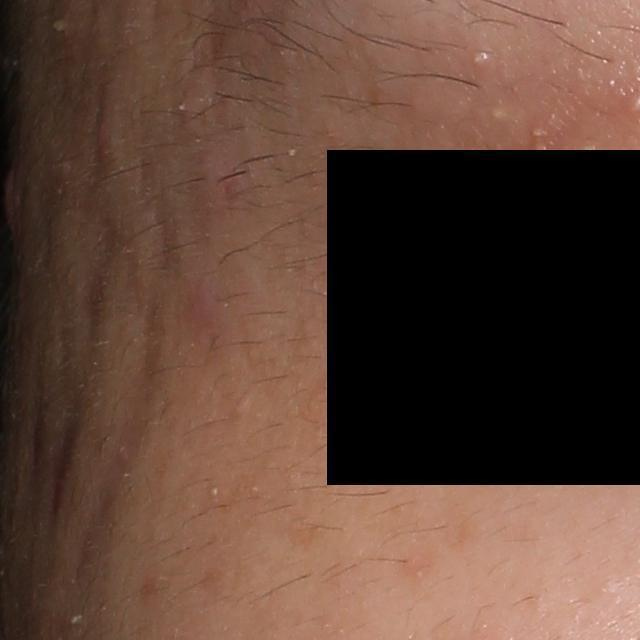other: (467, 45, 494, 71)
